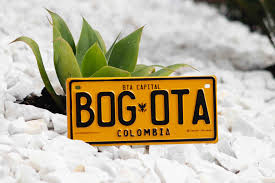number plate: (66, 76, 217, 144)
